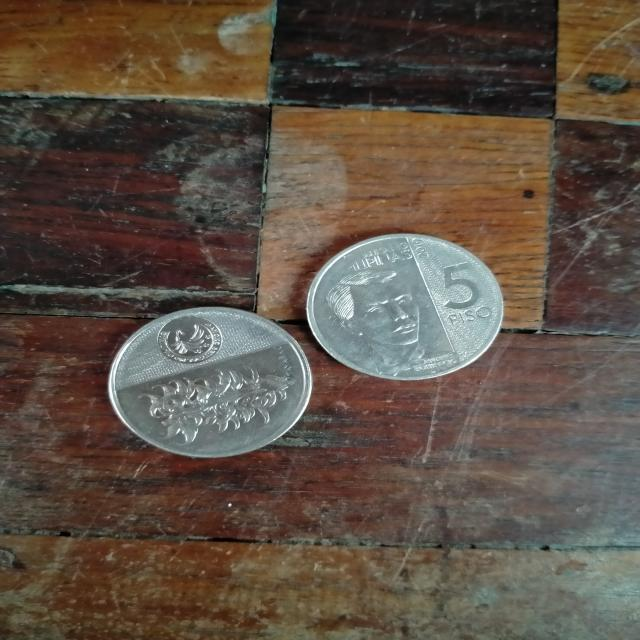5_New_Back: (136, 361, 301, 448)
5_New_Front: (432, 257, 502, 325)
